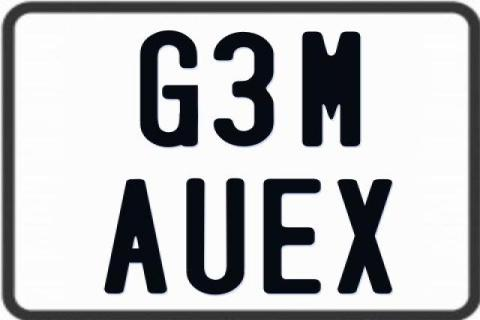0: (214, 31, 276, 148)
A: (102, 178, 168, 296)
E: (260, 178, 322, 296)
G: (137, 30, 196, 152)
M: (300, 31, 362, 147)
U: (184, 178, 242, 296)
X: (336, 179, 393, 297)
